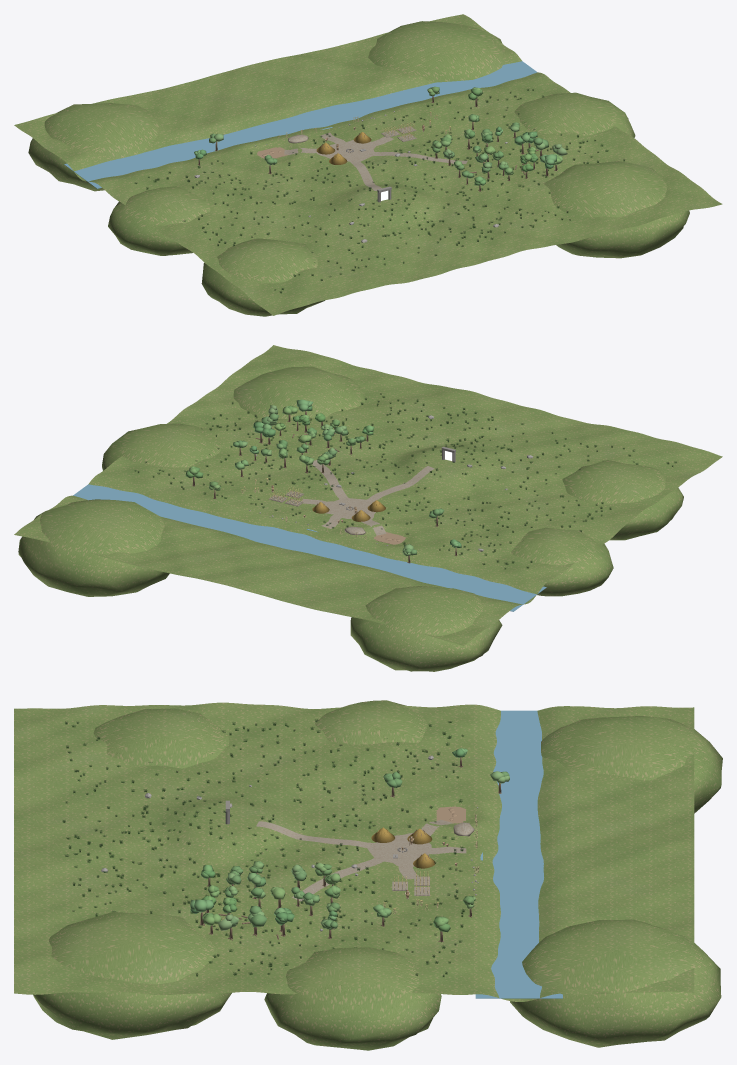
Rendered from neolithic.glb.
3 renders of one model, top to bottom at view 1: azimuth 30°, elevation 25°; view 2: azimuth 150°, elevation 25°; view 3: azimuth 270°, elevation 25°, orthographic. The views are drawn at different scales.
Visible parts, largest first — view 1: ground, hill.001, river, hill.005, hill.004, hill, hill.002, hill.003, blades, village_floor; view 2: ground, hill.005, hill.004, river, hill, hill.001, hill.002, hill.003, blades, village_floor; view 3: ground, hill.005, hill.001, hill.003, river, hill.004, hill, blades, hill.002, village_floor, path.004, path.002.
Boxes of the visible parts, x1,y1,x2,y2 form: ground: (14,14,722,315); hill.001: (544,161,689,258); river: (64,61,537,188); hill.005: (368,21,503,82); hill.004: (28,103,160,191); hill: (201,238,324,316); hill.002: (108,186,210,255); hill.003: (514,92,635,137); blades: (134,89,624,293); village_floor: (317,140,375,161); ground: (14,345,722,645); hill.005: (18,499,169,596); hill.004: (350,586,502,671); river: (73,484,546,611); hill: (562,460,683,540); hill.001: (233,366,364,418); hill.002: (511,527,613,596); hill.003: (102,423,220,470); blades: (134,393,676,569); village_floor: (325,498,375,519); ground: (14,702,694,1001); hill.005: (510,919,721,1047); hill.001: (33,912,231,1039); hill.003: (264,947,441,1050); river: (475,710,562,998); hill.004: (541,716,722,813); hill: (93,708,229,768); blades: (62,719,465,976); hill.002: (315,700,427,744); village_floor: (367,833,431,866); path.004: (256,821,381,848); path.002: (292,854,389,901).
Bounding box in the file's own units: 157 × 22.85 × 146.
Materials: 25 (8 with a texture image).
